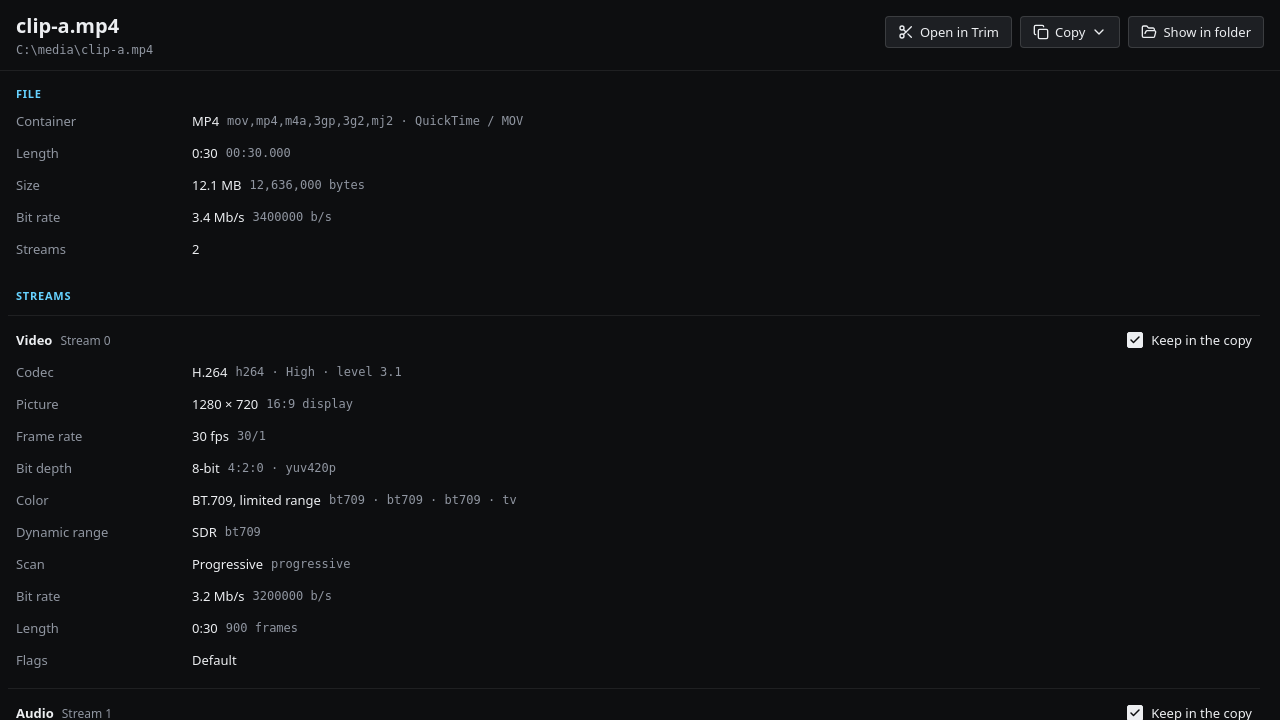
Test case: the Inspect view › saves a copy without a stream left out
This screenshot has width=1280, height=720.
What coordinates should you click on to do the following:
click the checkbox labelled "Keep in the copy" in the row of "Audio"
I would click on:
 (1135, 713)
Its box is [1127, 705, 1143, 719].
(page scrolled)
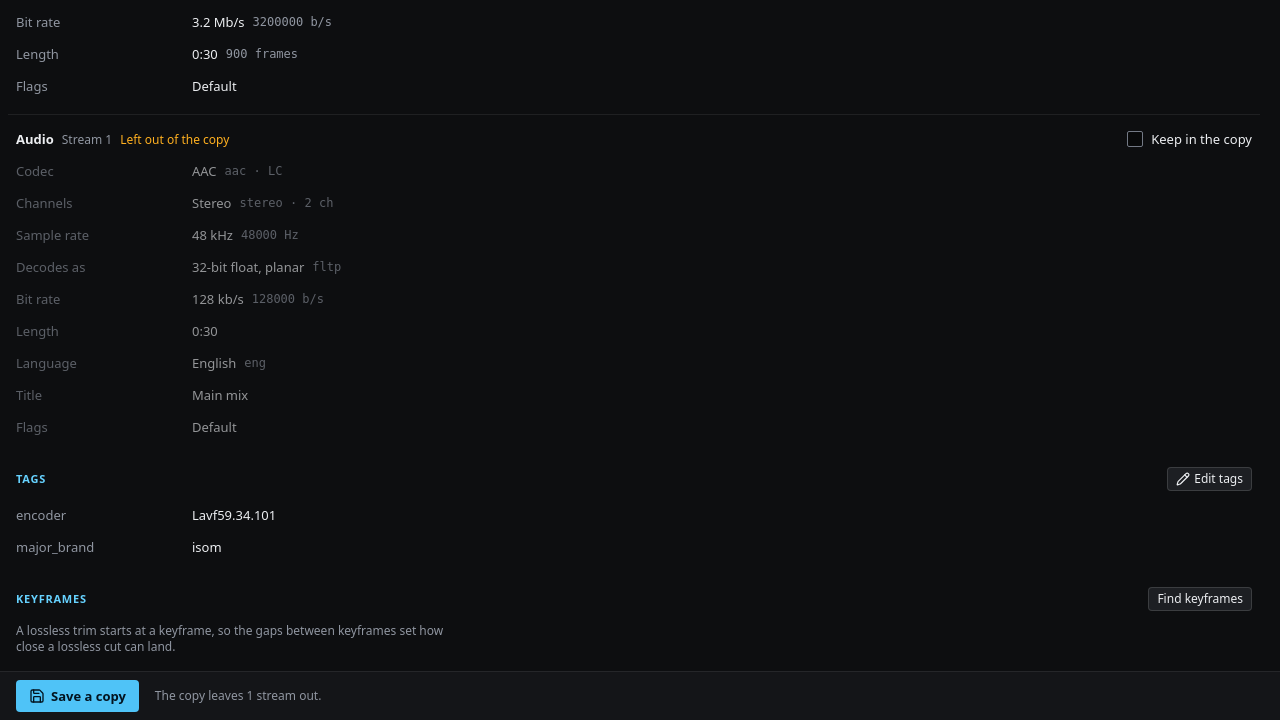
Now the text "Left out of the copy" is shown, box [120, 132, 229, 148]
Now the text "The copy leaves 1 stream out." is shown, box [155, 687, 321, 704]
What coordinates should you click on to do the following:
click the button "Save a copy"
I would click on:
 (77, 696)
Its box is [16, 680, 139, 712].
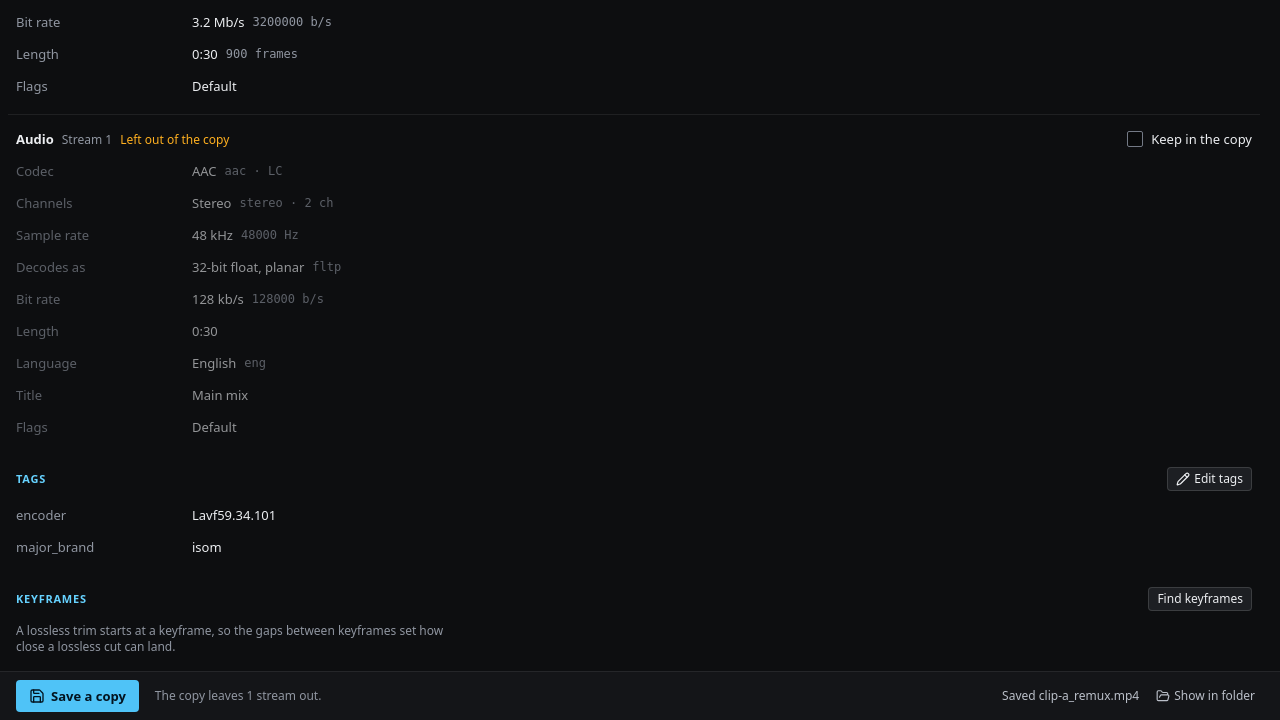
Now the text "Saved clip-a_remux.mp4" is shown, box [1002, 688, 1139, 704]
